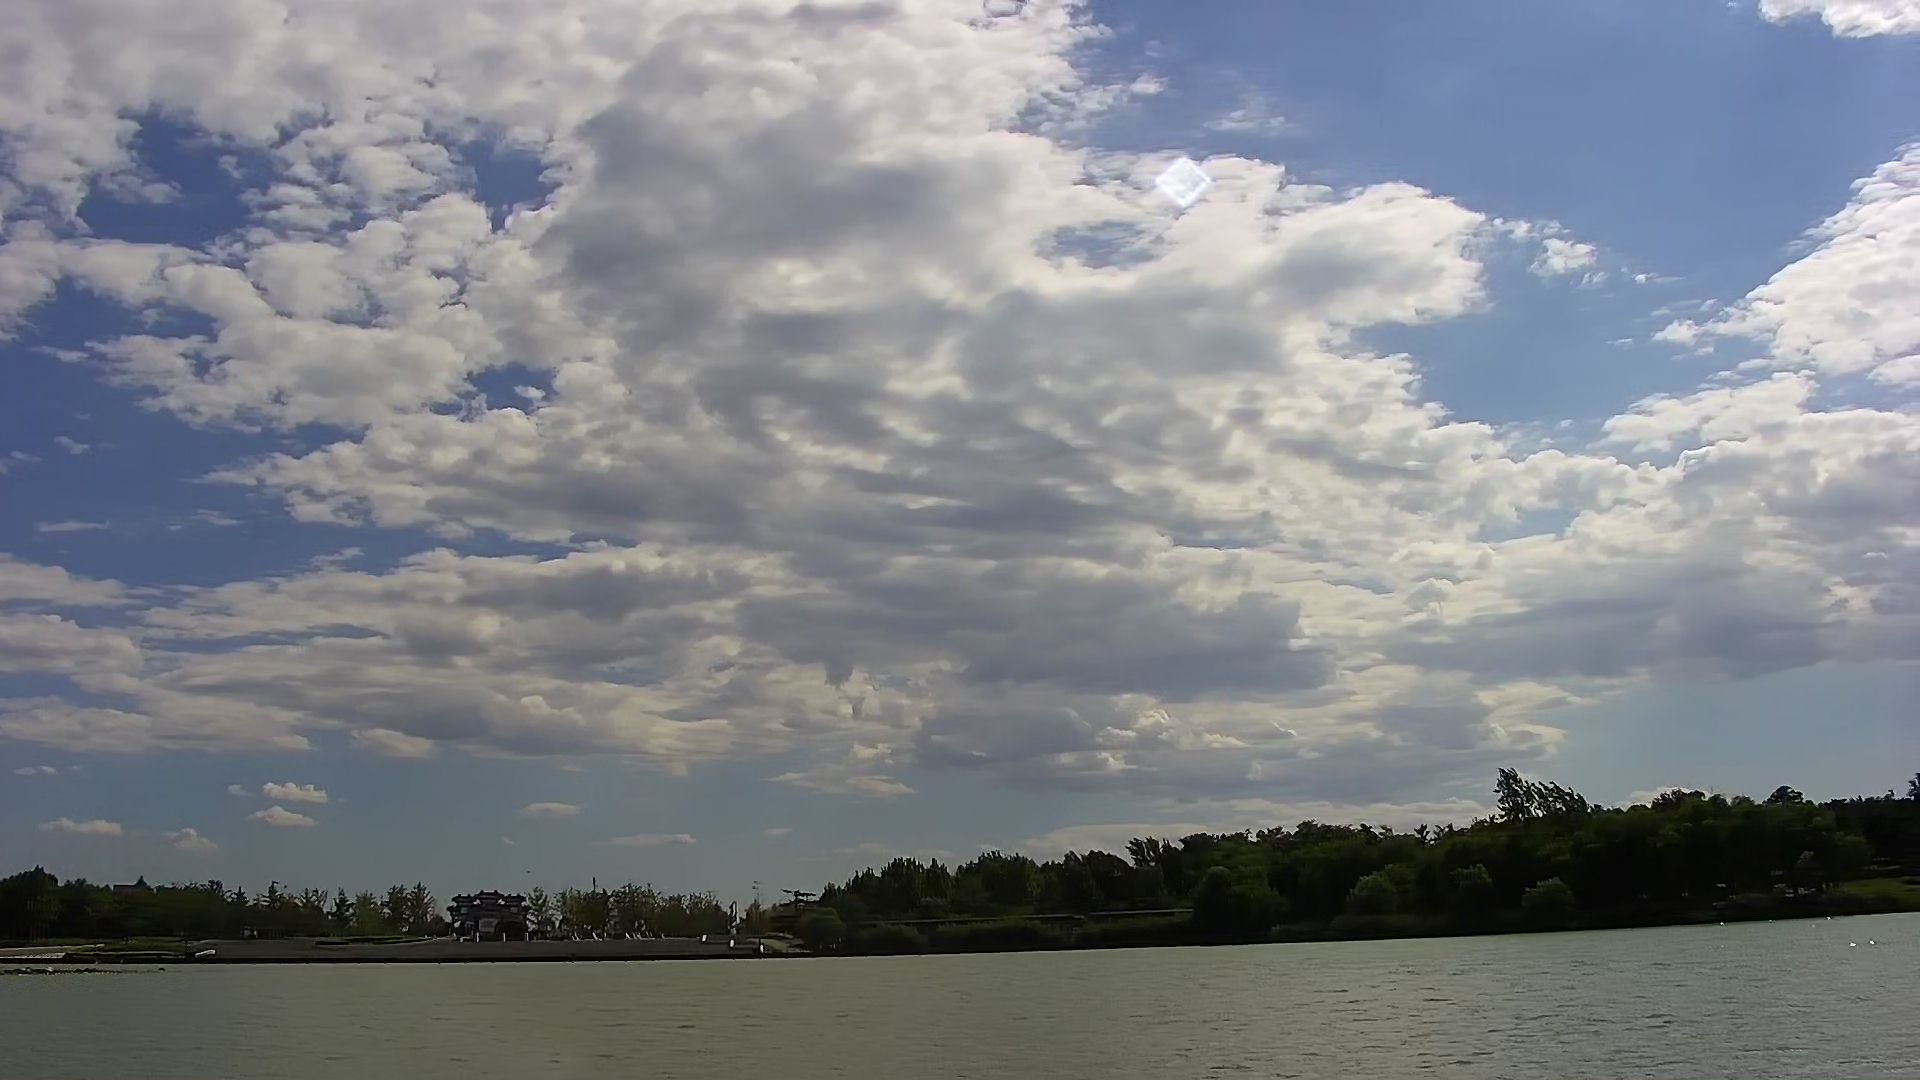harbor: (117, 922, 832, 967)
